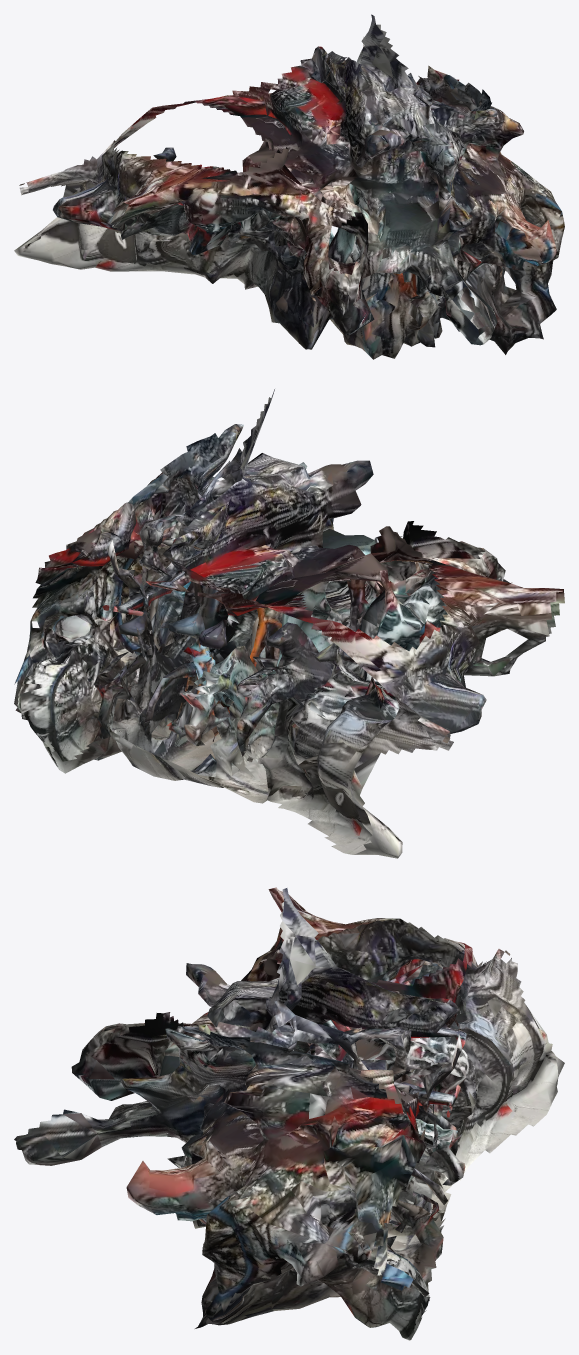
The model's file is S026_BikeRack.glb.
3 renders of one model, top to bottom at view 1: azimuth 30°, elevation 25°; view 2: azimuth 150°, elevation 25°; view 3: azimuth 270°, elevation 25°, orthographic. The views are drawn at different scales.
Parts seen in each view (by area): view 1: S026_RETOPO; view 2: S026_RETOPO; view 3: S026_RETOPO.
Part boxes in pixels (x1=…): S026_RETOPO: x1=14, y1=14, x2=564, y2=359; S026_RETOPO: x1=14, y1=389, x2=564, y2=858; S026_RETOPO: x1=14, y1=887, x2=564, y2=1340.
Size of the model in its own units: 2.42 by 1.77 by 2.31.
1 material, 1 textured.
